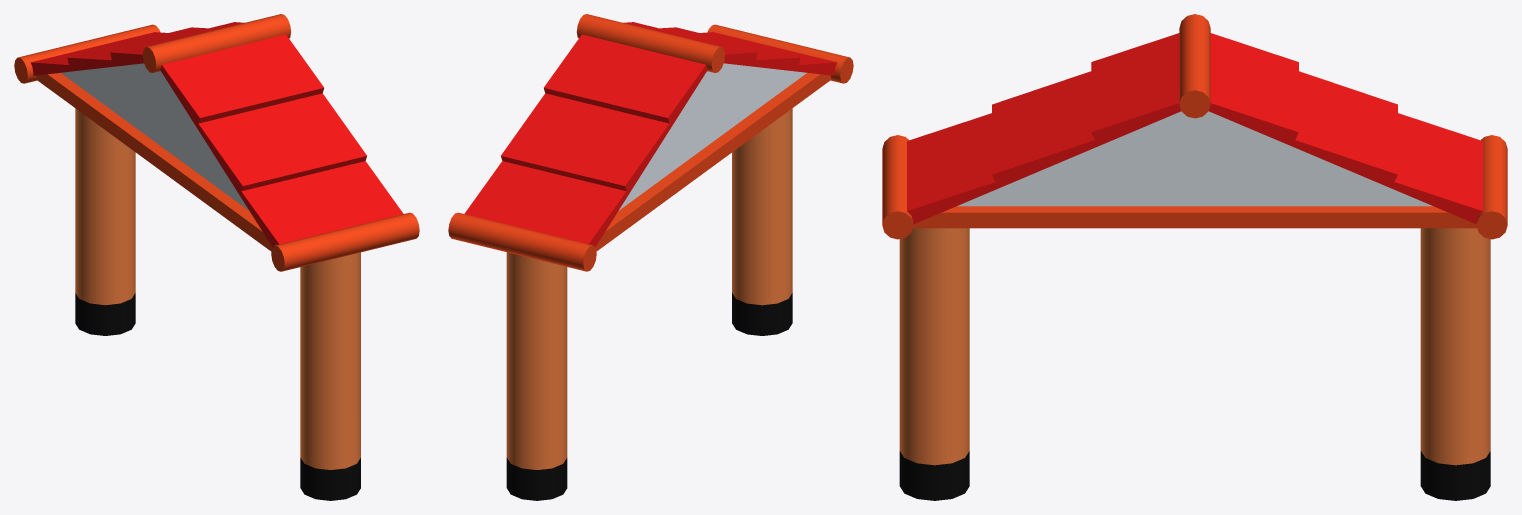
File: cong Japan.FBX
3 views of the same model, side by side, from view 1: azimuth 30°, elevation 25°; view 2: azimuth 150°, elevation 25°; view 3: azimuth 270°, elevation 25° (orthographic). The views are drawn at different scales.
Parts seen in each view (by area): view 1: Cylinder135; view 2: Cylinder135; view 3: Cylinder135.
Boxes of the visible parts, x1,y1,x2,y2 form: Cylinder135: (14, 14, 419, 500); Cylinder135: (448, 14, 853, 500); Cylinder135: (882, 14, 1507, 500).
Bounding box in the file's own units: 2.05 × 5.44 × 7.12.
